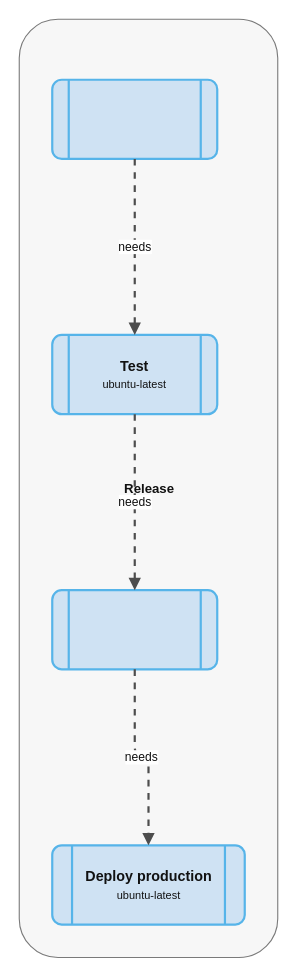
This 297x977 diagram has some shape labels left out. The box of each missing label's shape, as (x1, y1, x2, y2) in pixels:
Build image ubuntu-latest: (51, 588, 218, 670)
Lint ubuntu-latest: (51, 78, 218, 160)
